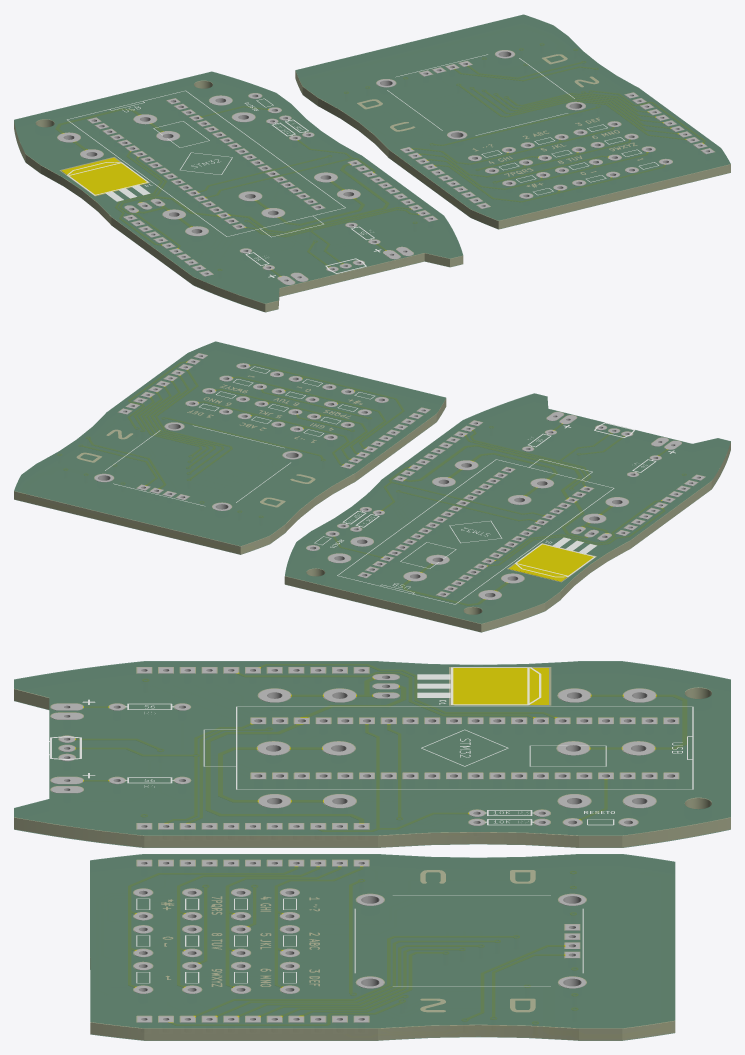
Rendered from dc-darknet-def-con-24-badge.glb.
The picture shows the model from 3 angles, top to bottom: view 1: azimuth 30°, elevation 25°; view 2: azimuth 150°, elevation 25°; view 3: azimuth 270°, elevation 25°; orthographic projection. The views are drawn at different scales.
Parts seen in each view (by area): view 1: =>[0:1:1:7], =>[0:1:1:9], =>[0:1:1:2], =>[0:1:1:5]; view 2: =>[0:1:1:7], =>[0:1:1:9], =>[0:1:1:2], =>[0:1:1:5]; view 3: =>[0:1:1:7], =>[0:1:1:9], =>[0:1:1:2], =>[0:1:1:5].
Boxes of the visible parts, <box> form: =>[0:1:1:7]: <box>14,14,730,312</box>; =>[0:1:1:9]: <box>14,15,730,312</box>; =>[0:1:1:2]: <box>56,44,714,284</box>; =>[0:1:1:5]: <box>67,54,658,277</box>; =>[0:1:1:7]: <box>14,341,730,632</box>; =>[0:1:1:9]: <box>14,342,730,632</box>; =>[0:1:1:2]: <box>60,353,705,605</box>; =>[0:1:1:5]: <box>105,366,675,604</box>; =>[0:1:1:7]: <box>14,661,730,1040</box>; =>[0:1:1:9]: <box>14,662,730,1040</box>; =>[0:1:1:2]: <box>51,664,686,1025</box>; =>[0:1:1:5]: <box>49,667,693,986</box>.
Bounding box in the file's own units: 0.1016 × 0.00166 × 0.0838.
4 materials, 4 textured.
